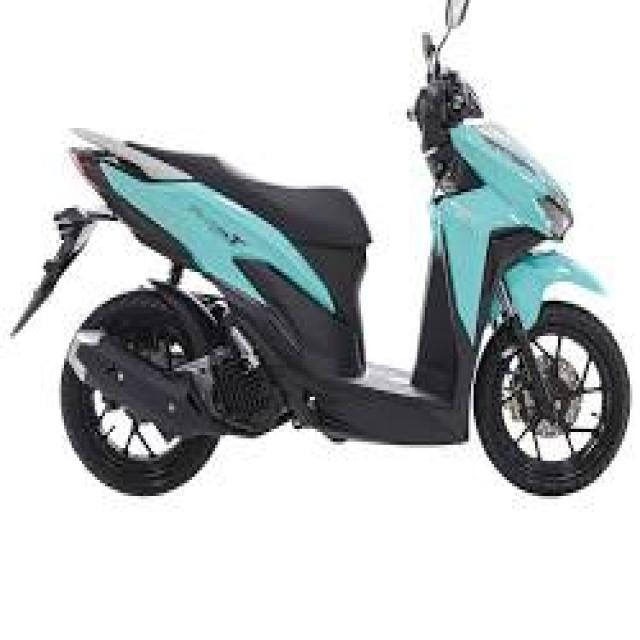kendaraan: (11, 68, 626, 527)
